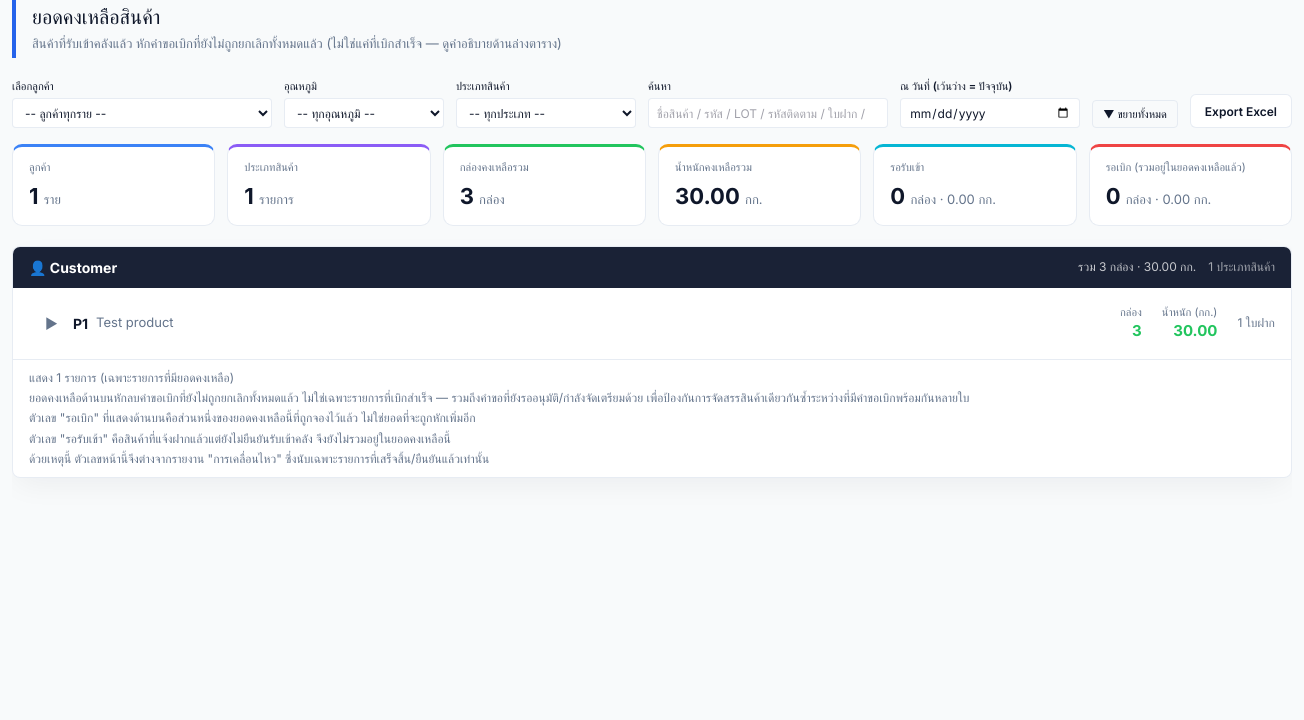
Test: inventory balance locations › shows read-only locations to staff
expect the text "Test product" is shown: met, box [96,313,174,333]
Click the button "▼ ขยายทั้งหมด". click: point(1135, 114)
box: [1092,100,1178,128]
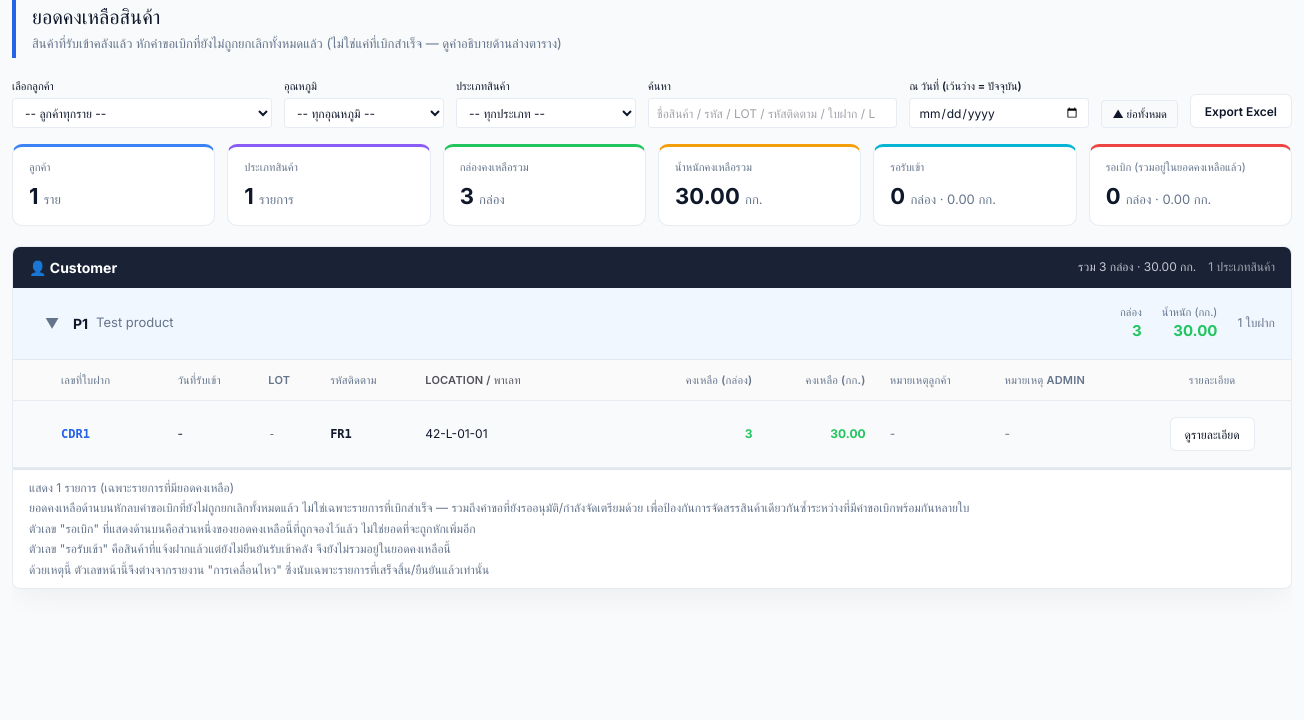
expect the text "42-L-01-01" is shown: met, box [425,426,488,441]
